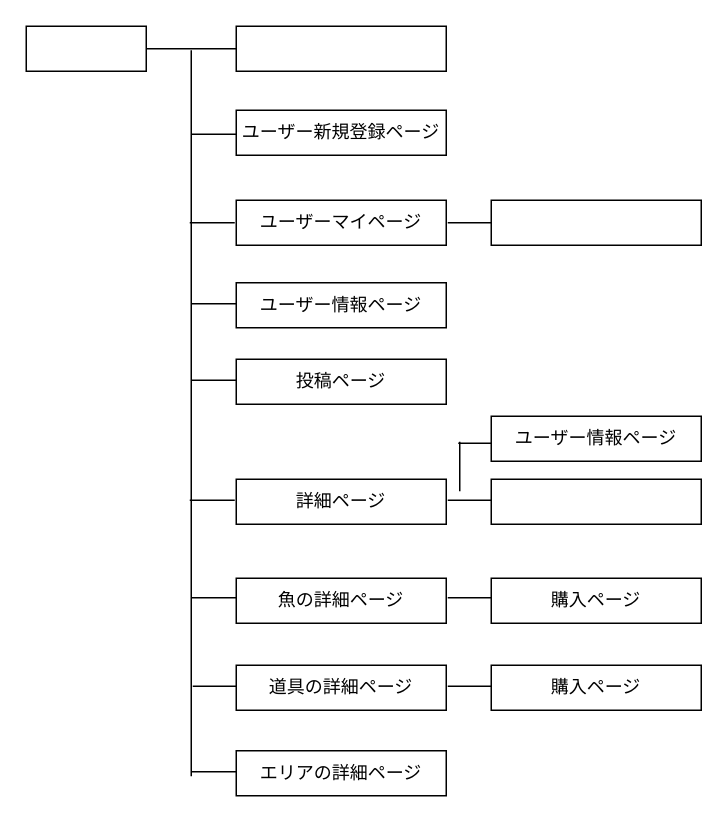
Some shapes in this 728 by 822 pixel diagram are drawn without their labels. Here are the shapes that lost their labels. From the top down, the box of each, then its label:
(25, 25, 146, 71): 一覧ページ
(235, 25, 446, 71): ユーザーログインページ
(490, 199, 701, 245): ユーザー情報編集ページ
(490, 478, 701, 524): 釣果情報編集ページ
